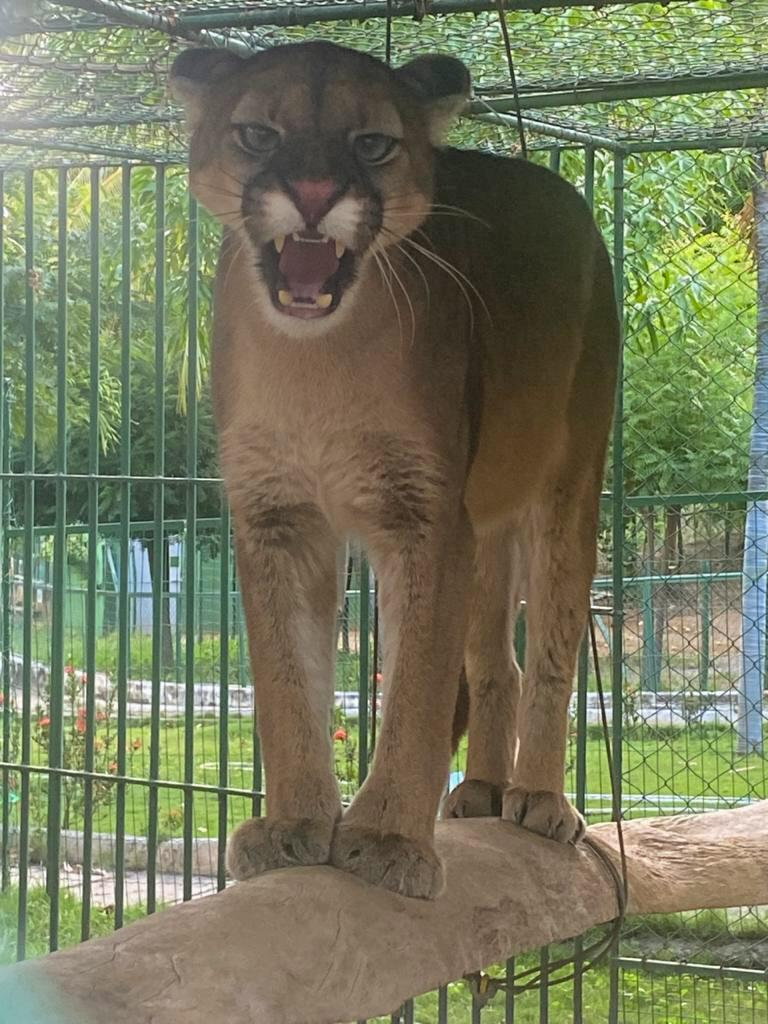OncaParda: (151, 40, 634, 911)
